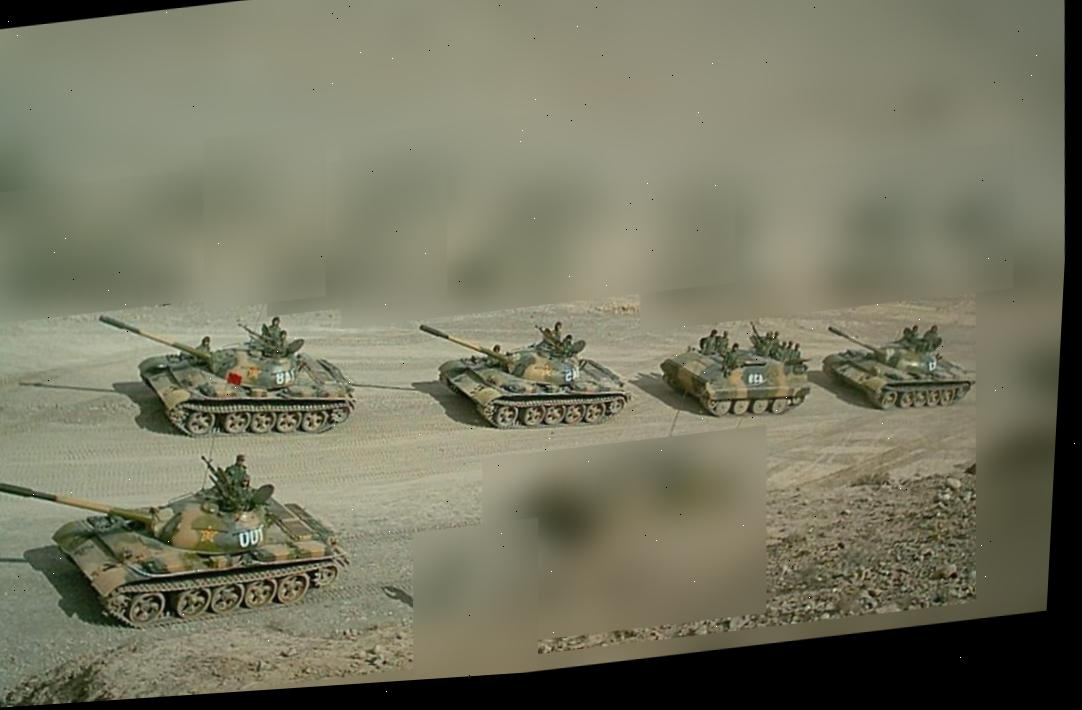armored_car: (0, 438, 361, 649), (653, 317, 813, 427)
tank: (92, 281, 366, 460), (403, 296, 634, 447), (813, 307, 978, 421)
